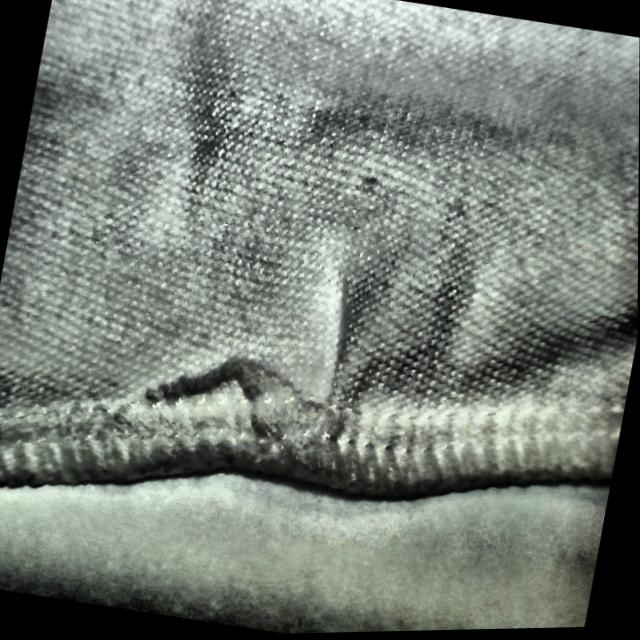seam: (151, 265, 381, 496)
